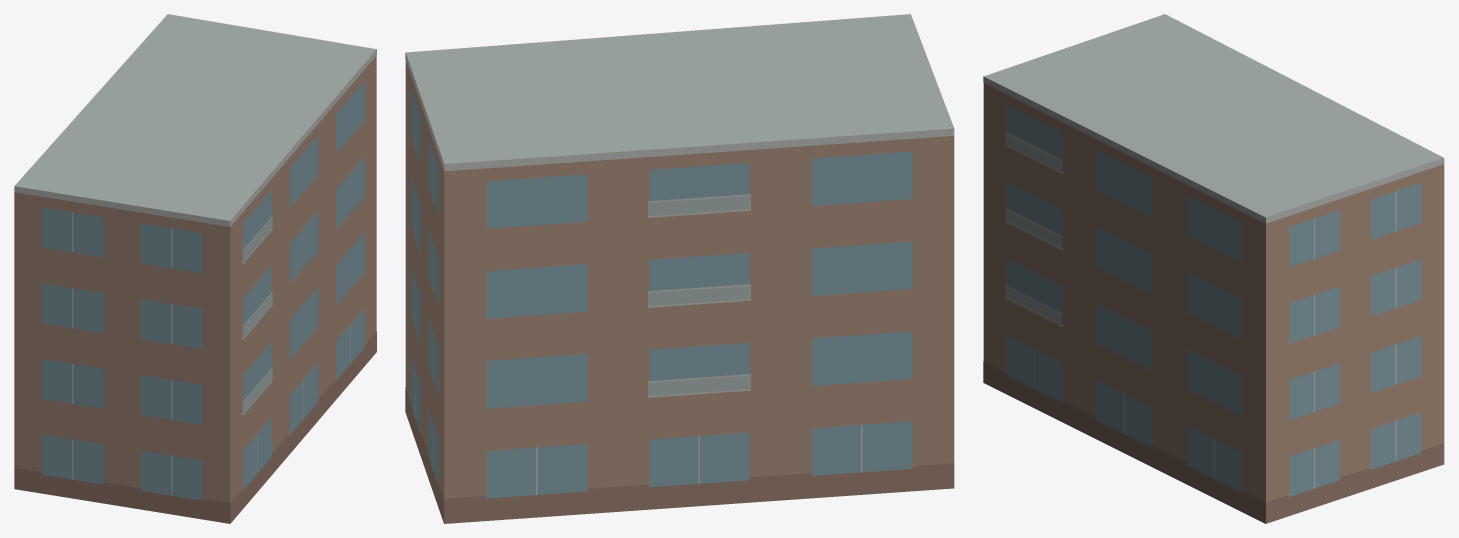
File: survey-upis-32844868.glb
3 renders of one model, left to right at view 1: azimuth 30°, elevation 25°; view 2: azimuth 150°, elevation 25°; view 3: azimuth 270°, elevation 25°, orthographic. The views are drawn at different scales.
Visible parts, largest first — view 1: survey-upis-32844868.tmp; view 2: survey-upis-32844868.tmp; view 3: survey-upis-32844868.tmp.
Part boxes in pixels (bbox=[...]): survey-upis-32844868.tmp: bbox=[14, 14, 376, 523]; survey-upis-32844868.tmp: bbox=[405, 14, 954, 523]; survey-upis-32844868.tmp: bbox=[983, 14, 1444, 523].
Size of the model in its own units: 17.39 by 12.2 by 16.64.
